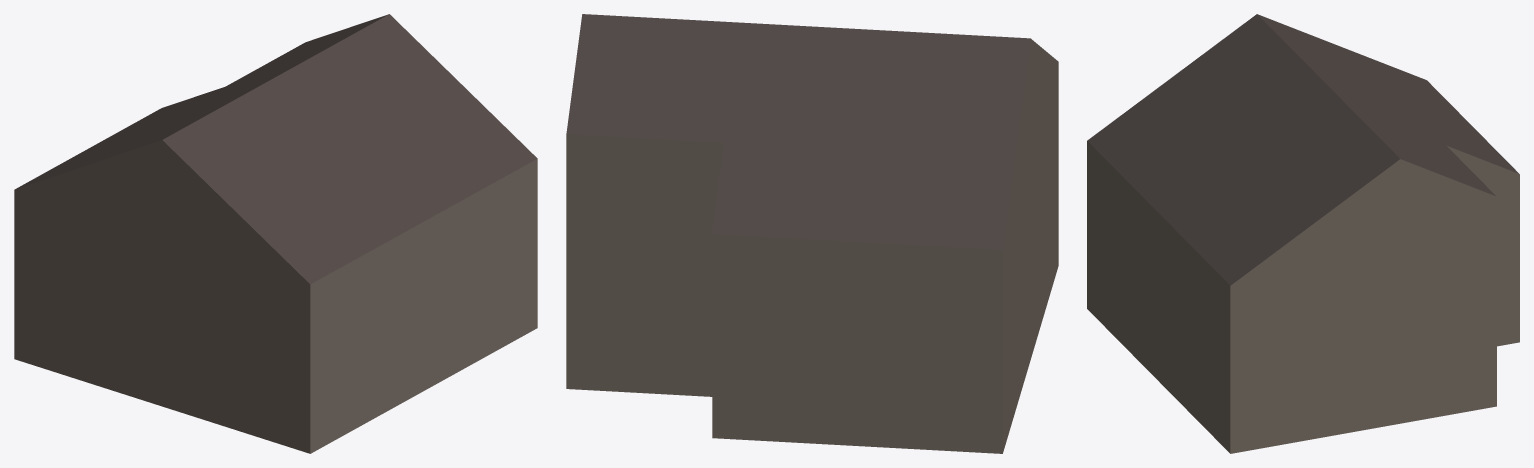
3 renders of one model, left to right at view 1: azimuth 30°, elevation 25°; view 2: azimuth 150°, elevation 25°; view 3: azimuth 270°, elevation 25°, orthographic. The views are drawn at different scales.
Parts seen in each view (by area): view 1: HP-w1203858309; view 2: HP-w1203858309; view 3: HP-w1203858309.
Part boxes in pixels (x1=…): HP-w1203858309: x1=14, y1=14, x2=537, y2=453; HP-w1203858309: x1=566, y1=14, x2=1058, y2=453; HP-w1203858309: x1=1087, y1=14, x2=1519, y2=453.
Bounding box in the file's own units: 15.73 × 9.44 × 13.99.
